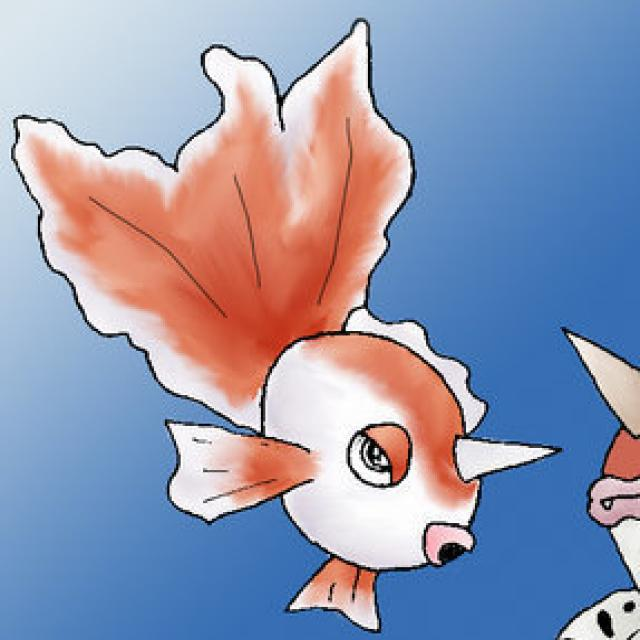Goldeen: (144, 58, 504, 625)
